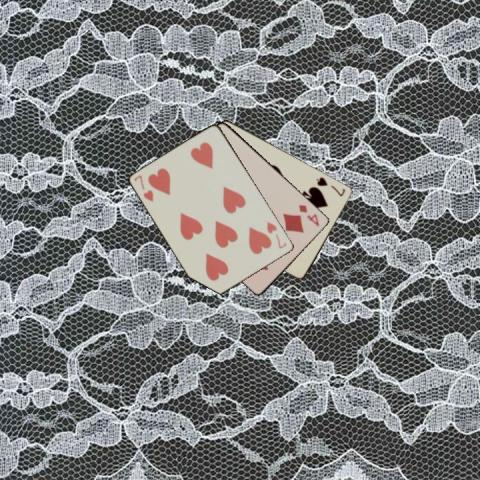4d: (296, 201, 321, 228)
7h: (264, 219, 289, 250), (132, 172, 156, 203)
7s: (314, 174, 348, 198)
